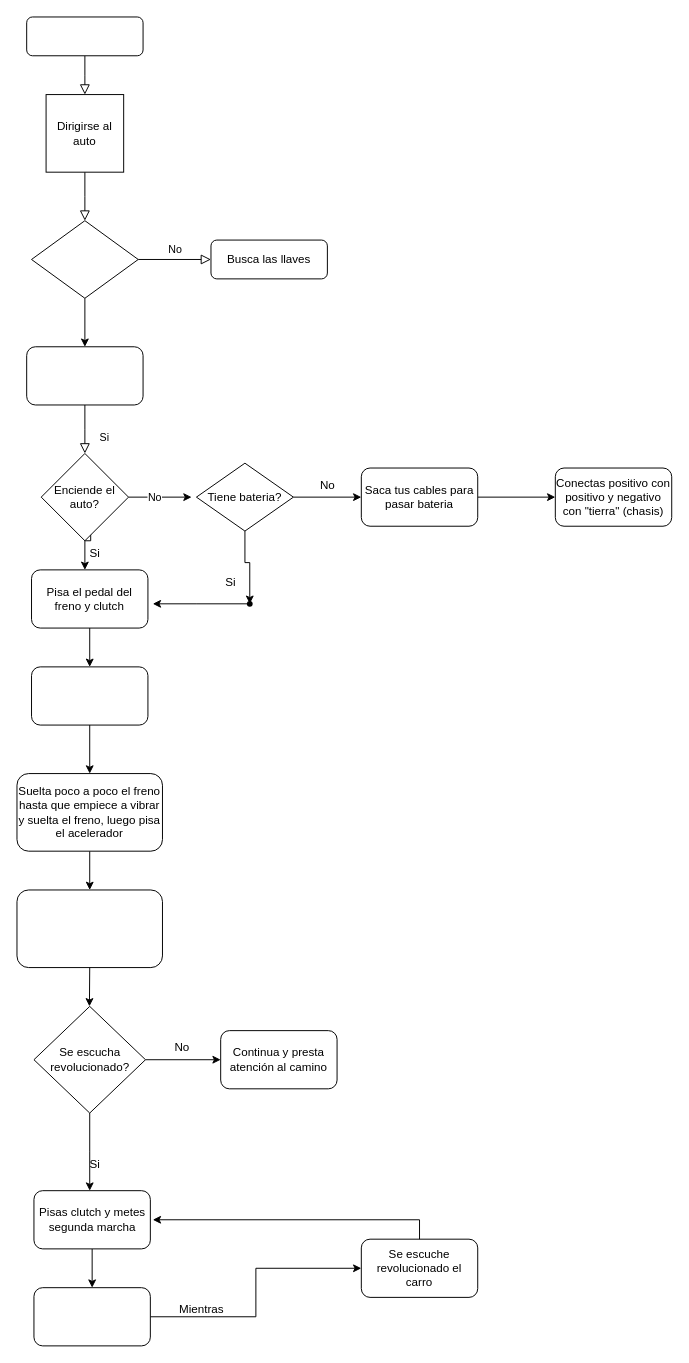
This 689x1363 diagram has some shape labels left out. Each missing label, with the box of its shape:
Abre la puerta y subete: (26, 346, 143, 405)
Conducir auto estándar: (26, 16, 143, 56)
Cuando comienza a moverse a adelante, suelta por completo el clutch: (16, 889, 162, 968)
Metes primera marcha: (31, 666, 148, 725)
Sueltas el clutch y sentirás como acelera más el auto: (33, 1287, 150, 1346)
Tienes las llaves?: (31, 220, 138, 298)
